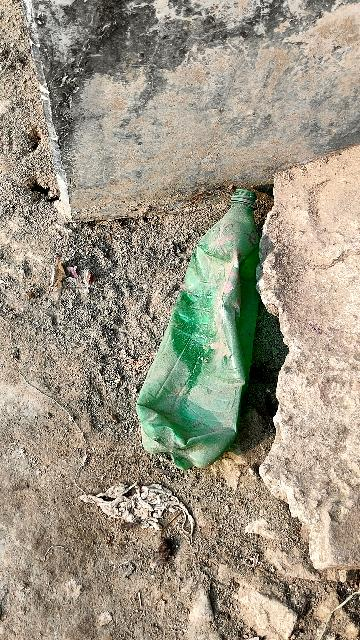bottle: (133, 183, 276, 473)
